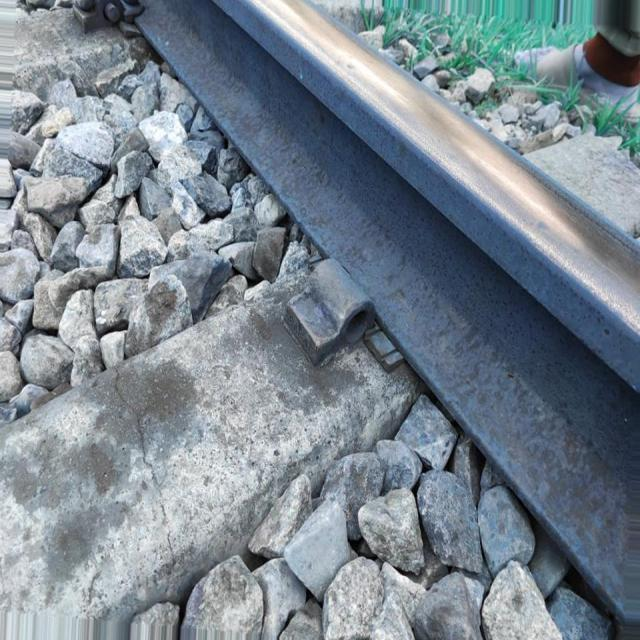Missing Fastener: (276, 240, 391, 365)
